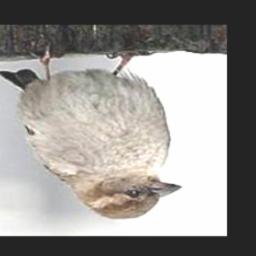Sparrow: (0, 43, 182, 220)
